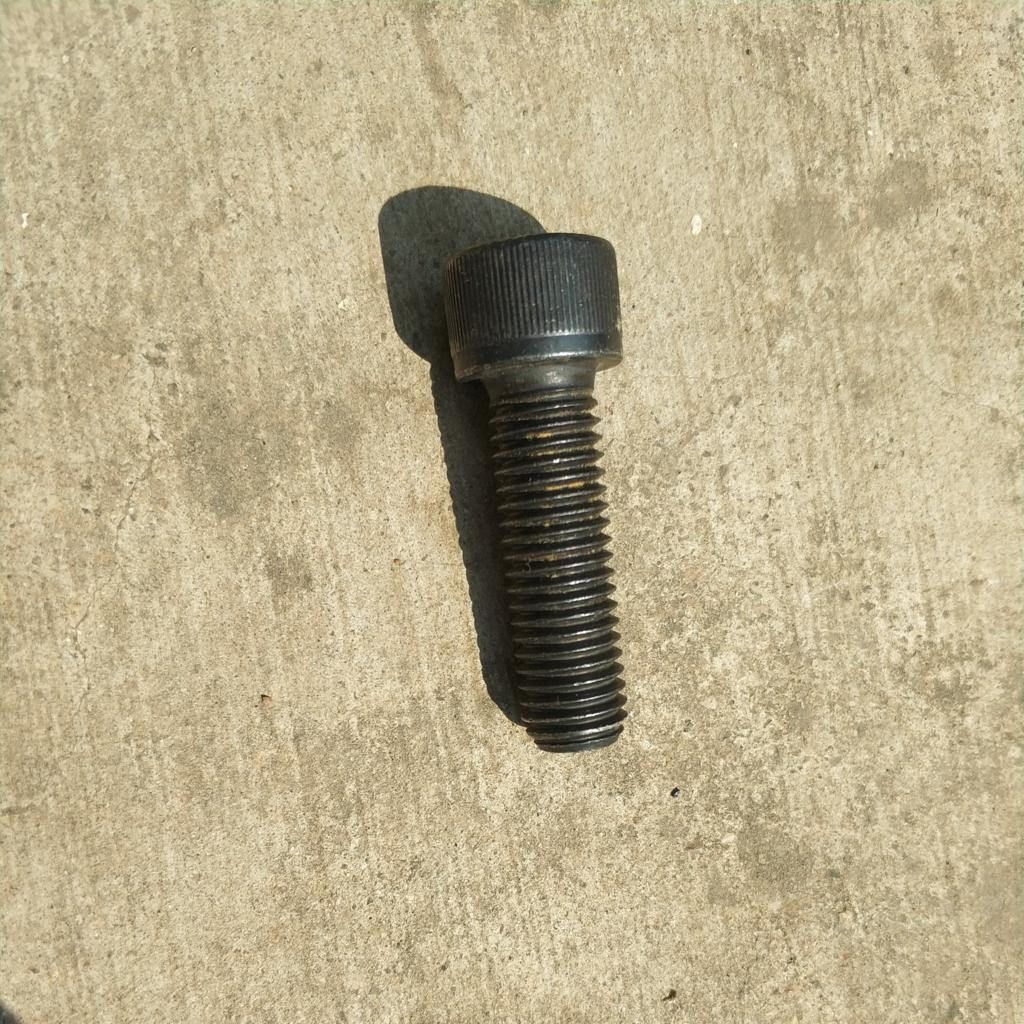screwtype1black: (435, 227, 639, 758)
